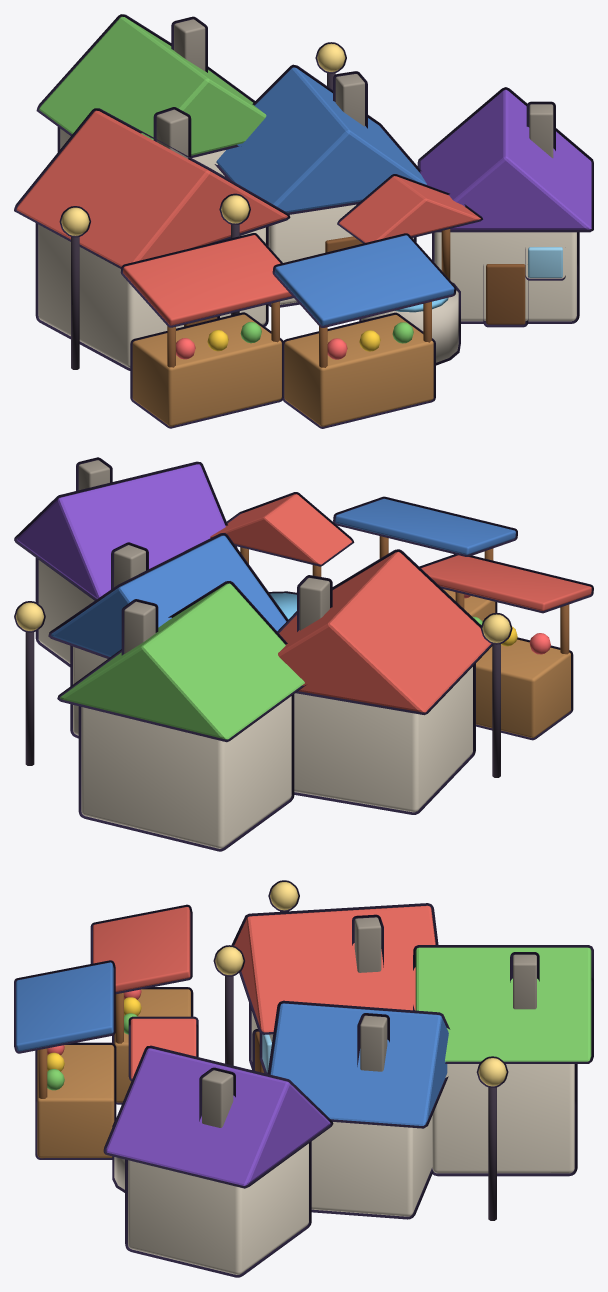
Rendered from village_3.glb.
3 renders of one model, top to bottom at view 1: azimuth 30°, elevation 25°; view 2: azimuth 150°, elevation 25°; view 3: azimuth 270°, elevation 25°, orthographic.
Parts seen in each view (by area): view 1: cottage, cottage.003, cottage.001, cottage.002, box.002, box, box.003, box.001, wroof, well, lamppost, lamp.002 (+2 smaller); view 2: cottage.002, cottage, cottage.003, cottage.001, box, box.003, wroof, box.001, lamppost.001, lamppost, lamp, lamp.001 (+1 smaller); view 3: cottage.003, cottage.002, cottage.001, cottage, box.002, box.003, box.001, wroof, box, lamppost.001, lamppost.002, lamp.001 (+2 smaller).
Boxes of the visible parts, box(x1,y1,x2,y2) form: cottage: box(14, 107, 290, 370); cottage.003: box(417, 87, 593, 327); cottage.001: box(214, 64, 426, 307); cottage.002: box(36, 14, 266, 176); box.002: box(282, 312, 435, 428); box: box(130, 312, 283, 428); box.003: box(272, 233, 456, 327); box.001: box(120, 233, 293, 327); wroof: box(337, 174, 482, 243); well: box(359, 282, 460, 365); lamppost: box(71, 235, 79, 369); lamp.002: box(219, 193, 250, 224); cottage.002: box(57, 581, 305, 851); cottage: box(277, 549, 492, 814); cottage.003: box(14, 457, 237, 666); cottage.001: box(48, 533, 288, 738); box: box(476, 637, 573, 740); box.003: box(333, 496, 517, 556); wroof: box(210, 492, 354, 566); box.001: box(419, 554, 593, 613); lamppost.001: box(25, 630, 34, 765); lamppost: box(492, 642, 500, 777); lamp: box(480, 612, 512, 644); lamp.001: box(14, 601, 45, 632); cottage.003: box(103, 1045, 333, 1277); cottage.002: box(413, 945, 593, 1176); cottage.001: box(267, 1000, 450, 1219); cottage: box(231, 903, 438, 1073); box.002: box(35, 1042, 116, 1159); box.003: box(14, 960, 115, 1053); box.001: box(90, 904, 192, 994); wroof: box(128, 1016, 198, 1081); box: box(112, 987, 193, 1104); lamppost.001: box(488, 1086, 496, 1220); lamppost.002: box(225, 974, 233, 1065); lamp.001: box(476, 1056, 508, 1087).
Bounding box in the file's own units: 5.41 × 2.05 × 5.29.
